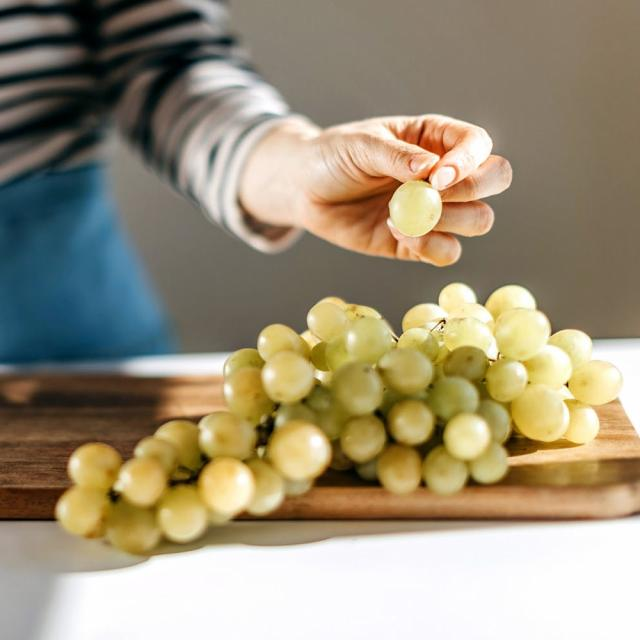grape: (53, 287, 640, 562)
